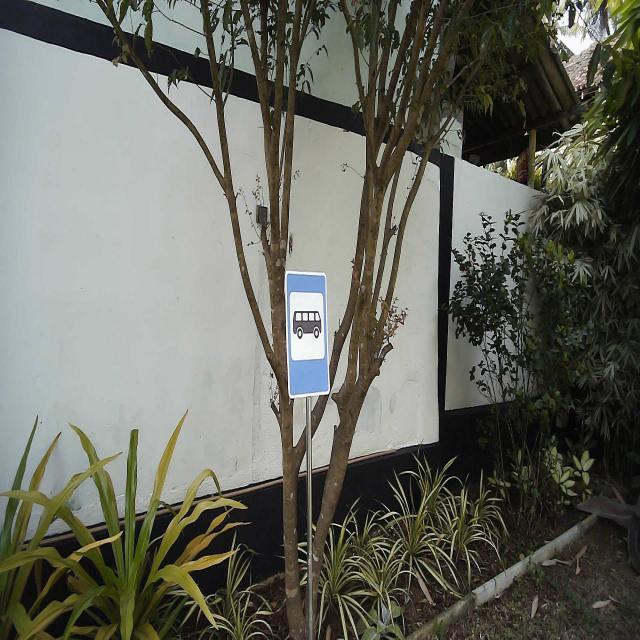bus_stop: (284, 271, 331, 401)
